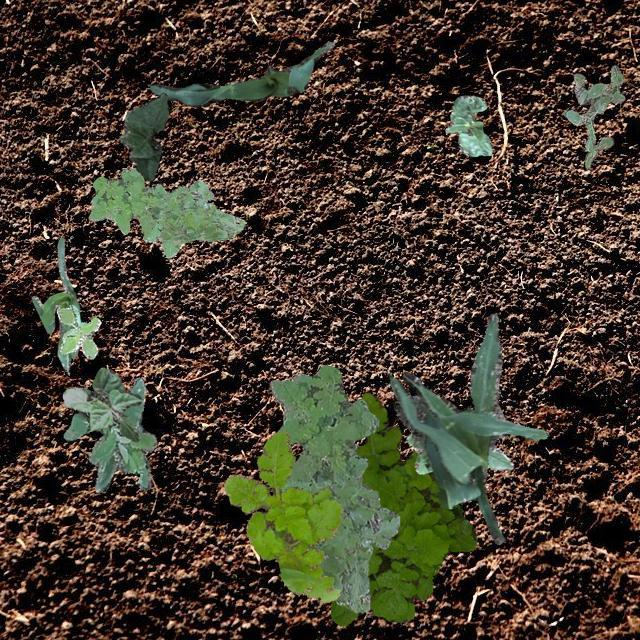crop: (389, 312, 546, 544), (148, 41, 334, 105), (31, 237, 78, 371), (61, 366, 140, 441), (118, 92, 168, 180), (406, 432, 512, 472), (444, 94, 492, 156)
weed: (330, 392, 476, 626), (268, 364, 398, 612), (224, 429, 342, 602), (88, 166, 245, 256), (62, 376, 156, 492), (562, 64, 624, 170), (56, 304, 100, 358)
